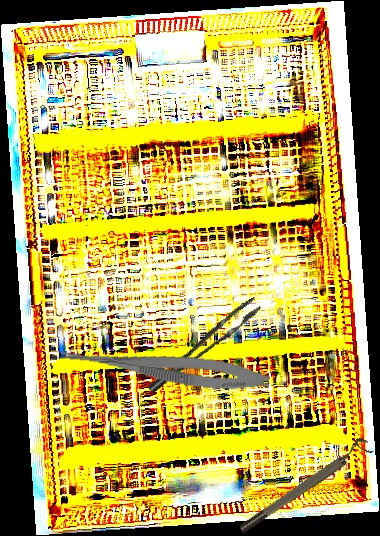Fixation Ring: (233, 434, 375, 536)
Micro Scissor: (49, 341, 272, 396)
Tissue Forceps: (137, 296, 269, 394)
